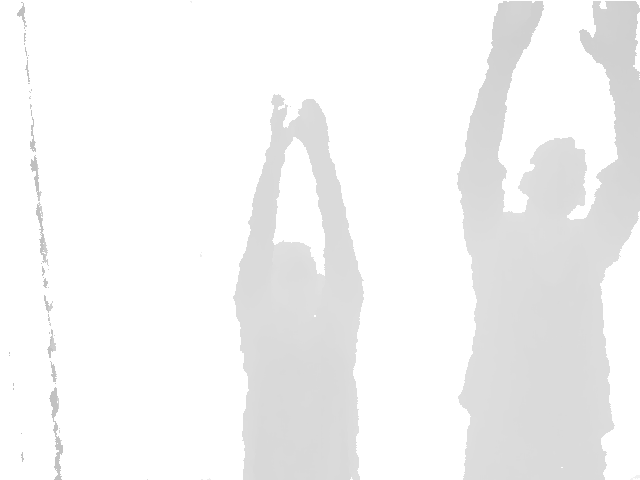hand: (577, 1, 640, 66), (491, 1, 546, 44), (294, 98, 330, 148), (269, 92, 293, 148)
head: (518, 136, 587, 219), (266, 241, 317, 318)
person: (456, 1, 640, 480), (232, 92, 366, 480)
